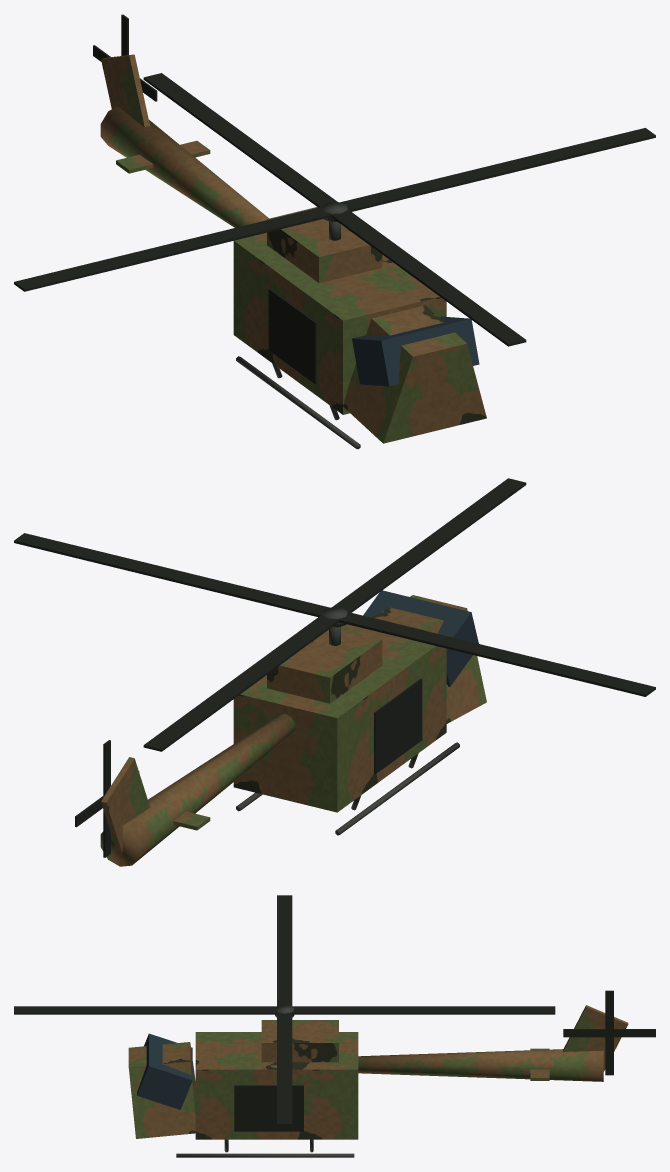
File: helicopter.glb
3 renders of one model, top to bottom at view 1: azimuth 30°, elevation 25°; view 2: azimuth 150°, elevation 25°; view 3: azimuth 270°, elevation 25°, orthographic. The views are drawn at different scales.
Visible parts, largest first — view 1: Body, Rotor, TailRotor; view 2: Body, Rotor, TailRotor; view 3: Body, Rotor, TailRotor.
Part boxes in pixels (x1,y1,x2,y2): Body: [100, 54, 486, 449]; Rotor: [14, 73, 655, 346]; TailRotor: [93, 14, 157, 101]; Body: [100, 590, 486, 866]; Rotor: [14, 478, 655, 751]; TailRotor: [75, 740, 139, 857]; Body: [128, 1005, 628, 1157]; Rotor: [14, 895, 555, 1125]; TailRotor: [563, 990, 655, 1075].
Size of the model in its own units: 14 by 4.34 by 16.6.
4 materials, 1 textured.
